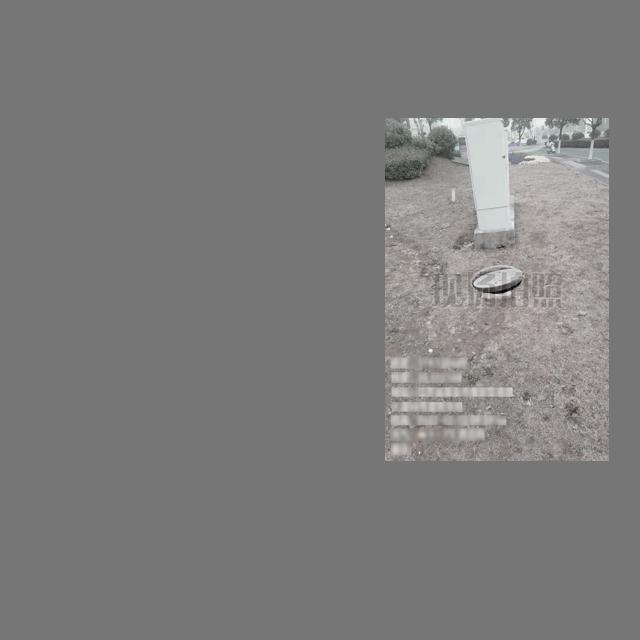uncovered: (470, 263, 523, 294)
